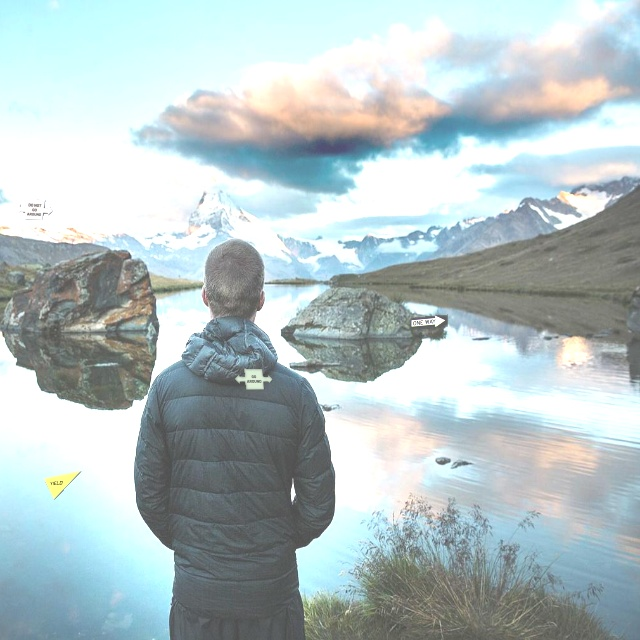DO_NOT_GO_AROUND: (14, 198, 53, 220)
GO_AROUND: (234, 368, 273, 390)
ONE_WAY_ right: (409, 314, 448, 330)
YIELD: (43, 470, 82, 500)
